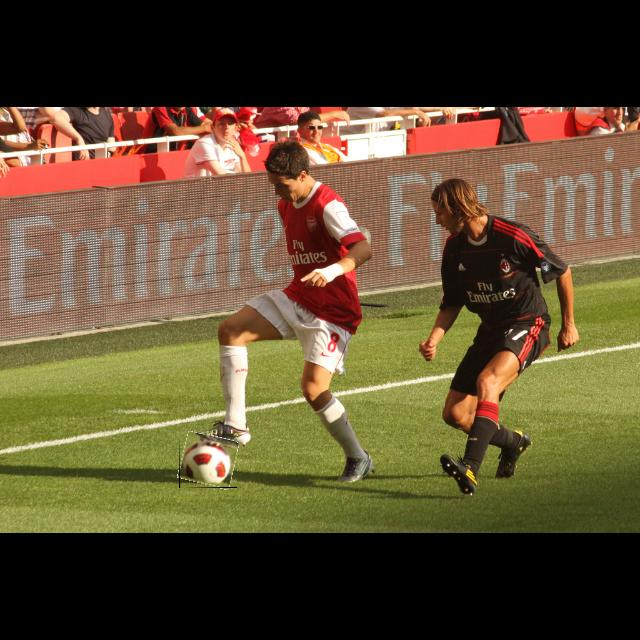Football: (179, 434, 237, 488)
